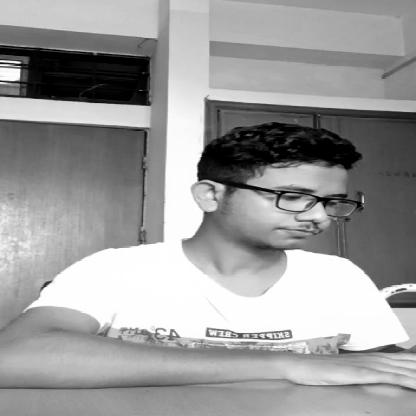Distracted: (204, 152, 358, 258)
